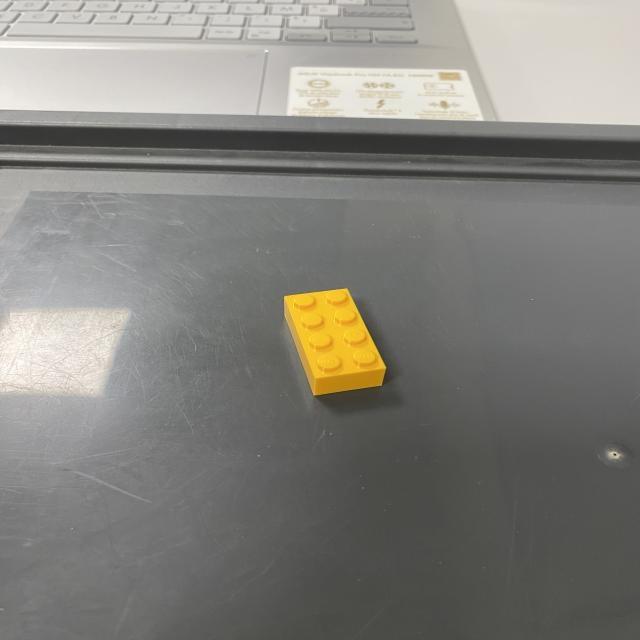C4x2x1: (285, 288, 386, 378), (315, 371, 386, 396)
